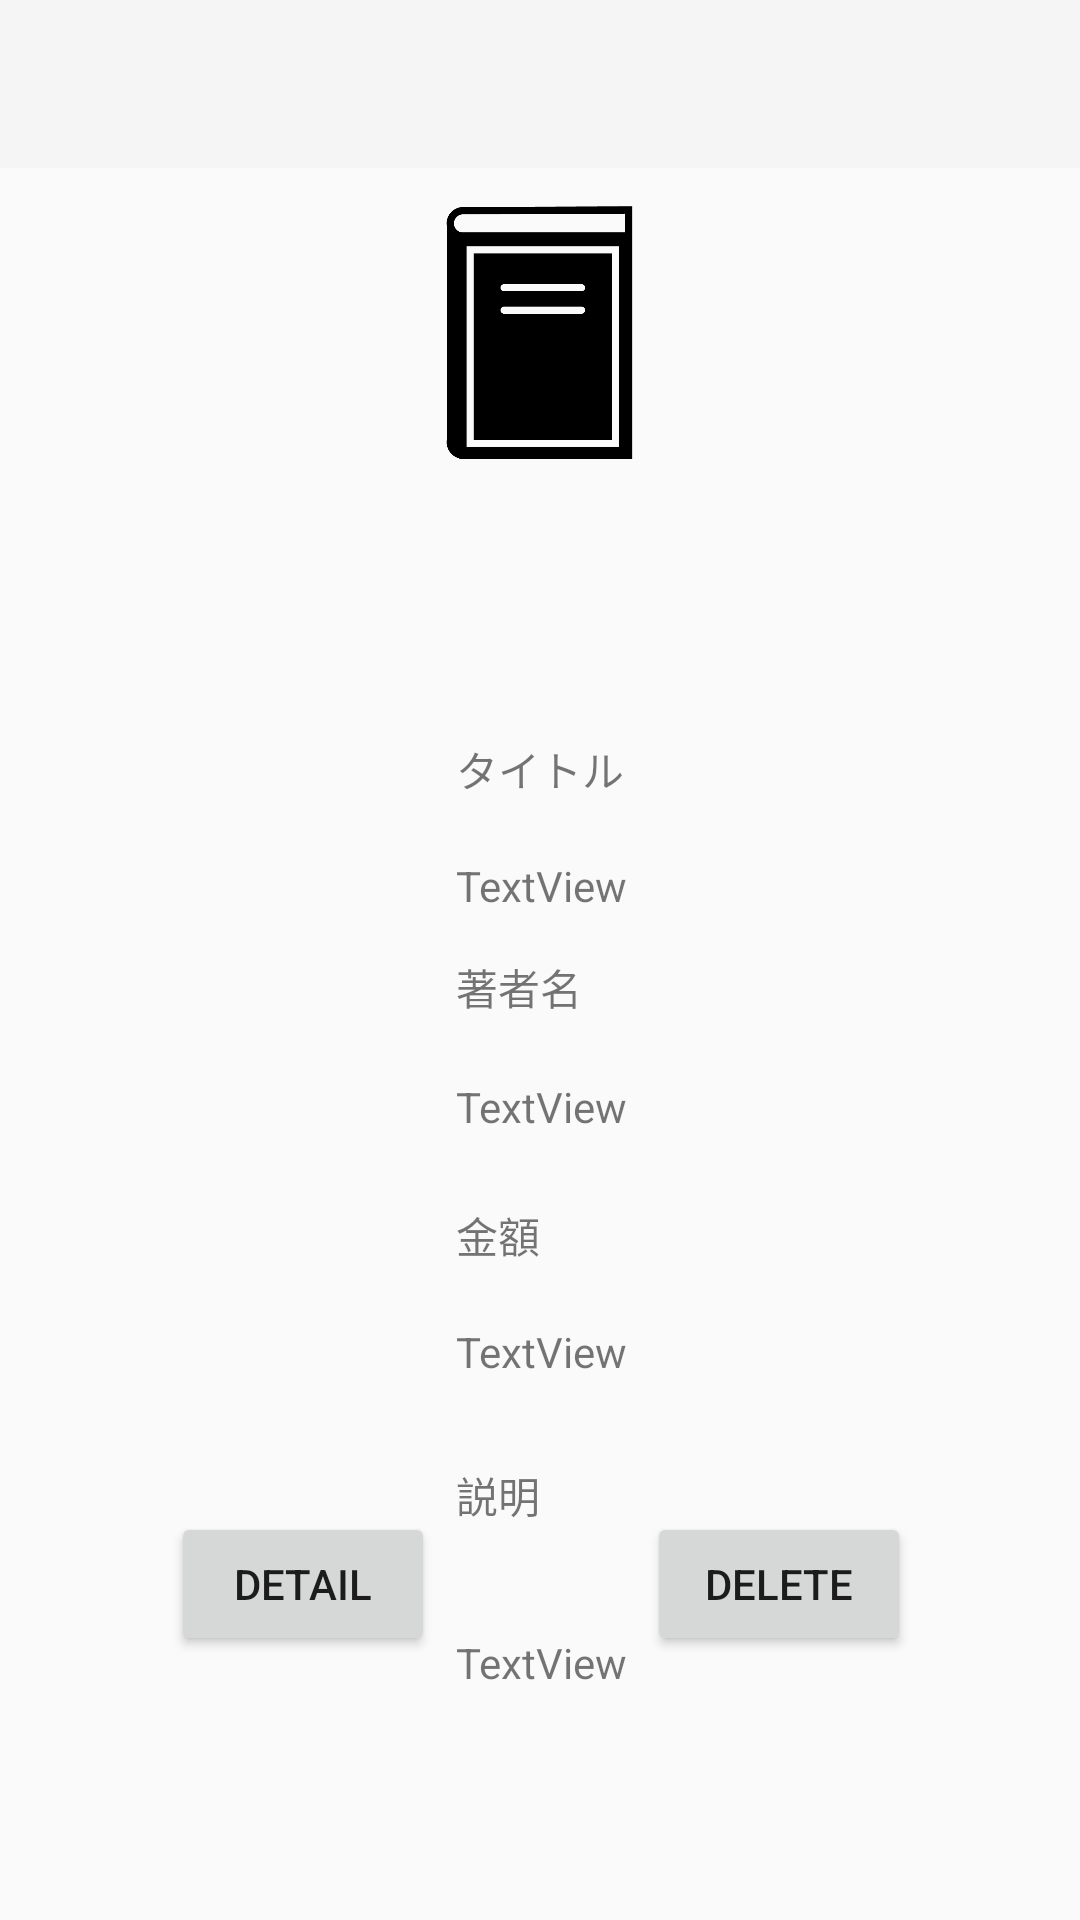

Where icons sit on this 1080x1920 app screen, as (x1, y1, x2, y2):
book: (446, 206, 633, 459)
